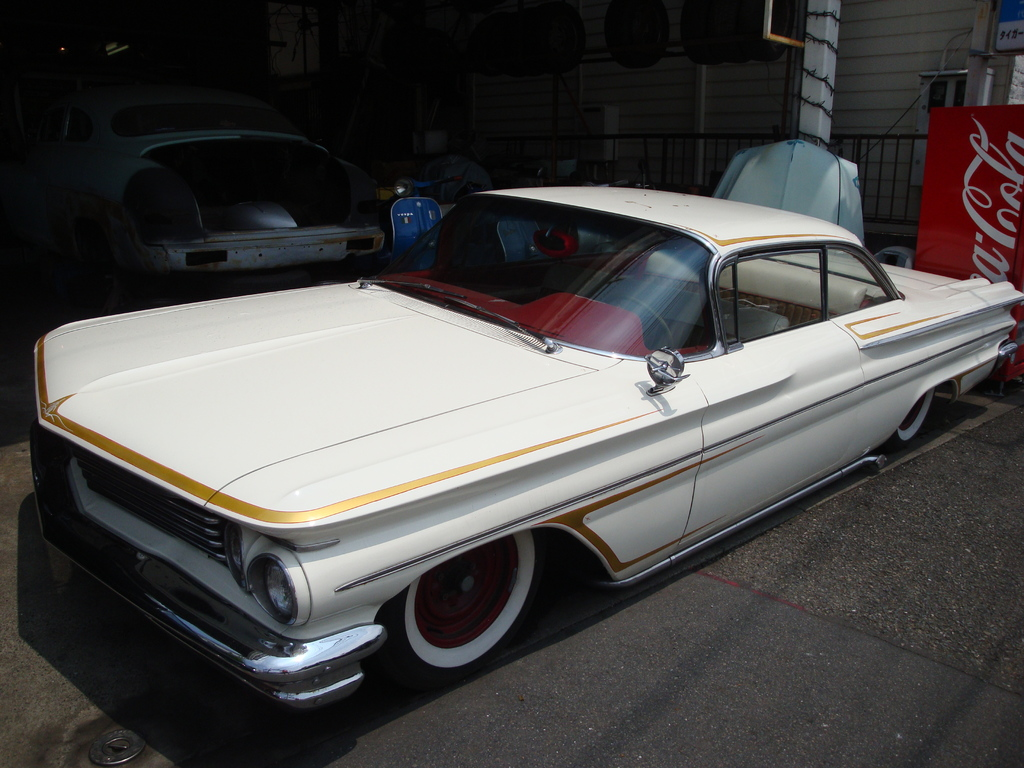Car: (30, 183, 1022, 721), (108, 138, 385, 283)
